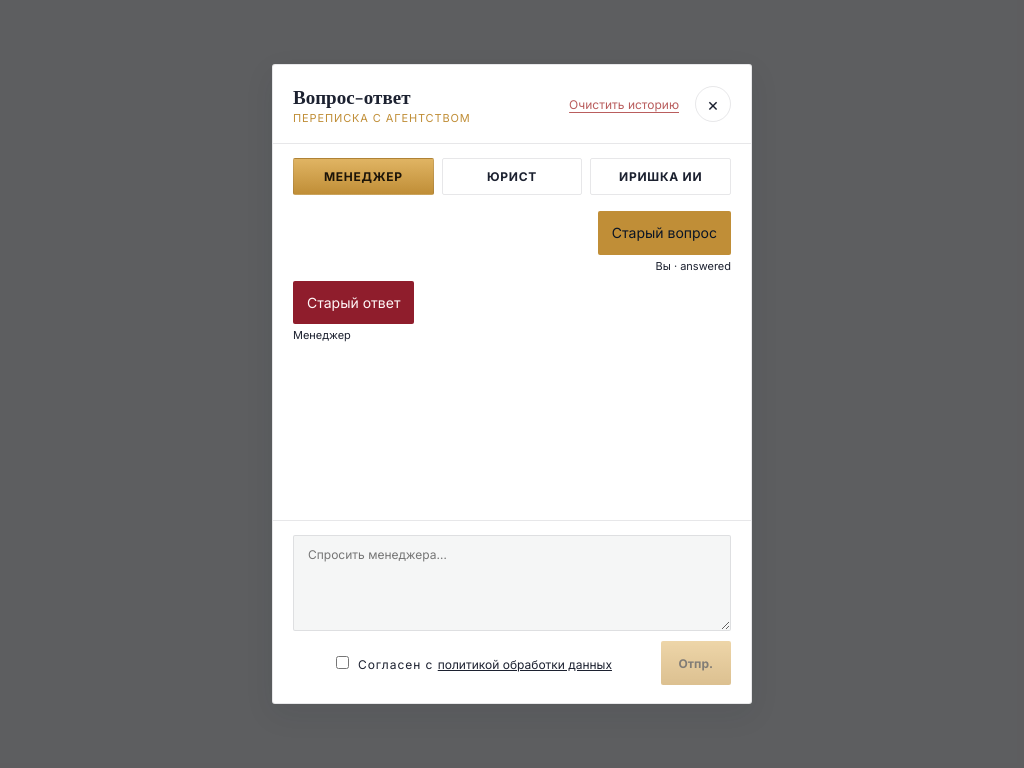
Test: QA composer footer › archives history only after confirmation and removes it from the modal
This screenshot has width=1024, height=768.
Click the button "Очистить историю" at (624, 104), box [563, 90, 685, 118]
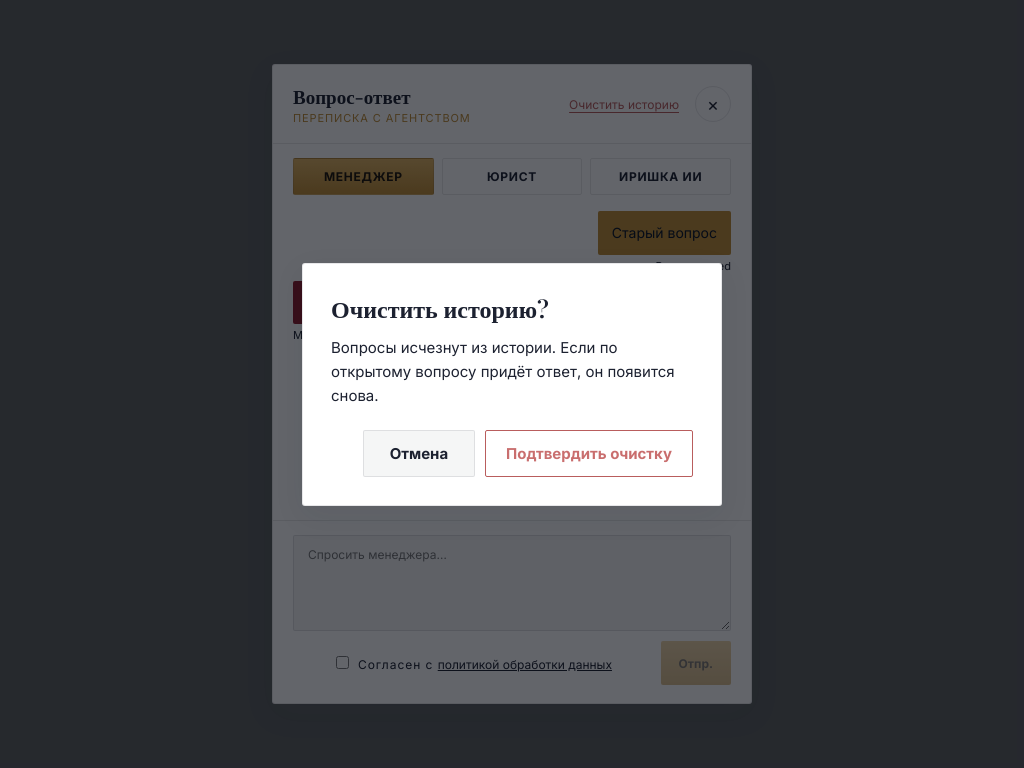
Check: the dialog "Очистить историю" is shown
Click the button "Отмена" at (419, 453), box [363, 430, 475, 476]
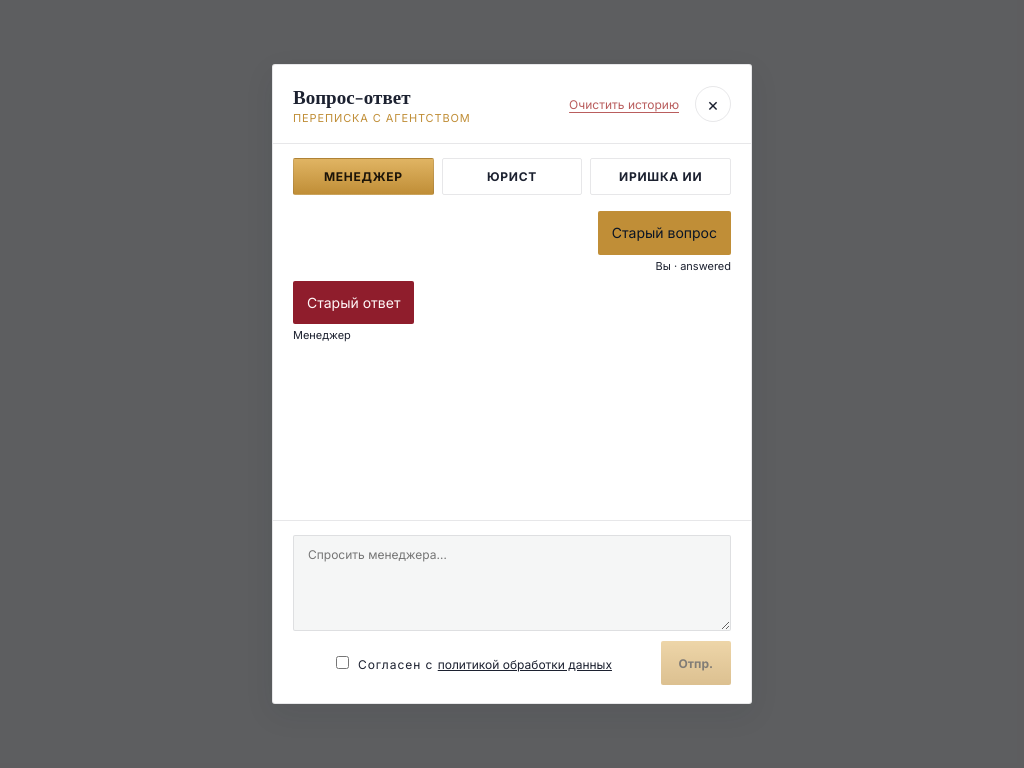
Check: the text "Старый вопрос" is shown, box [598, 211, 731, 255]
Click the button "Очистить историю" at (624, 104), box [563, 90, 685, 118]
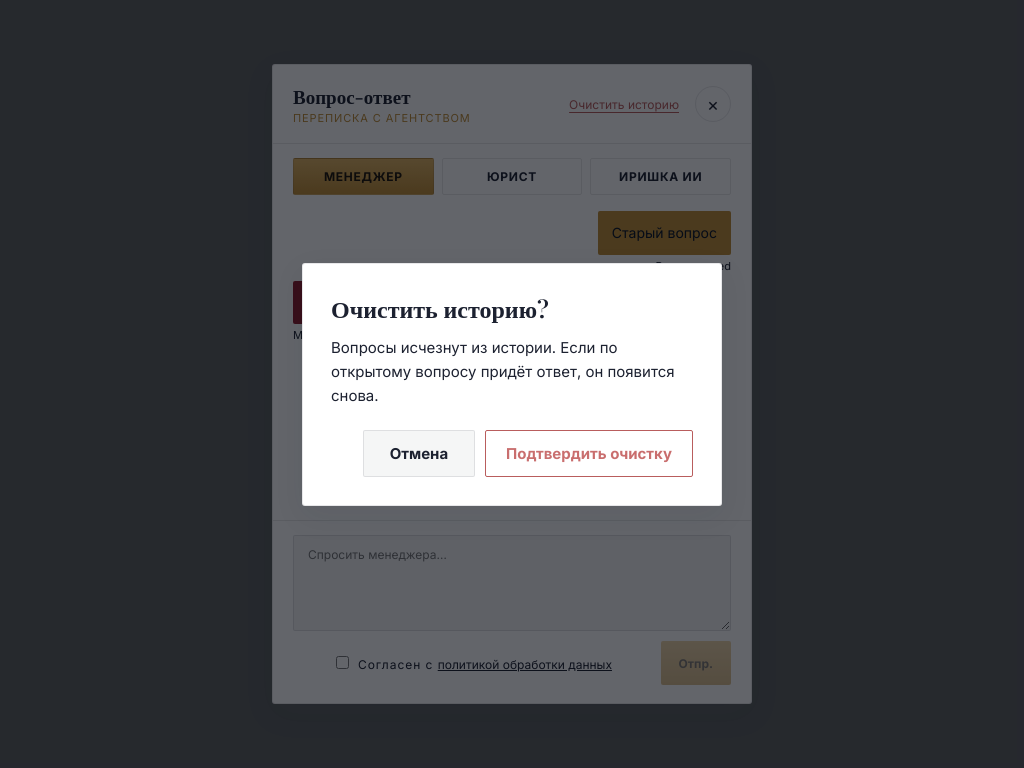
Click the button "Подтвердить очистку" at (589, 453), box [485, 430, 693, 476]
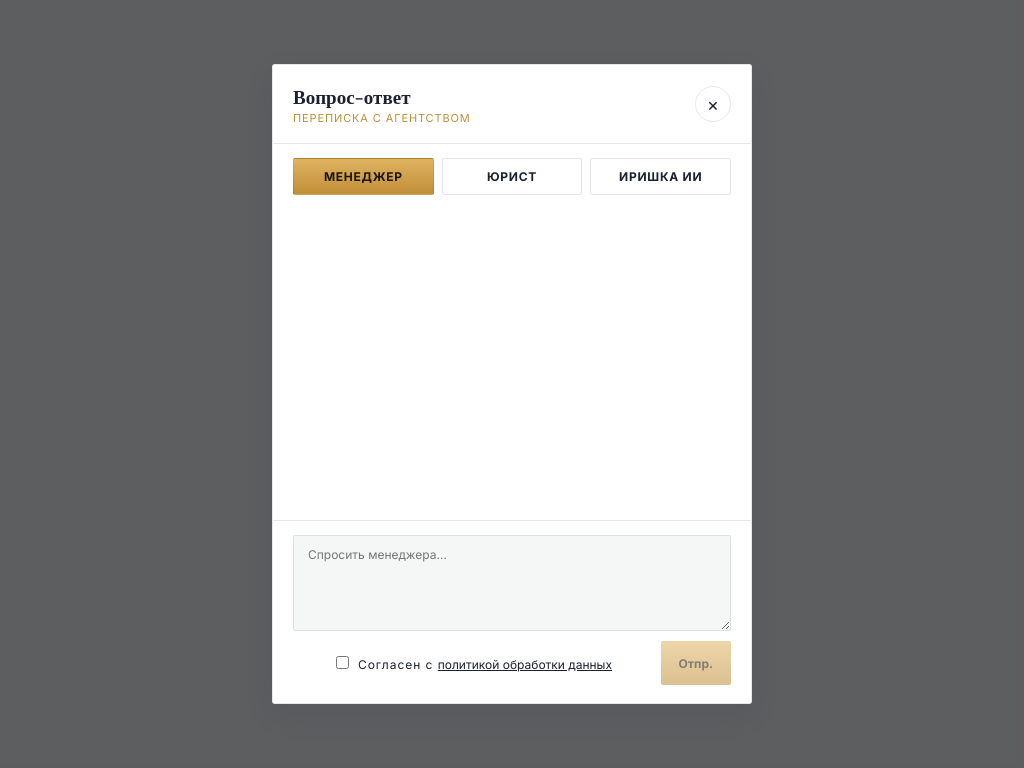
Check: the text "Старый вопрос" is gone
